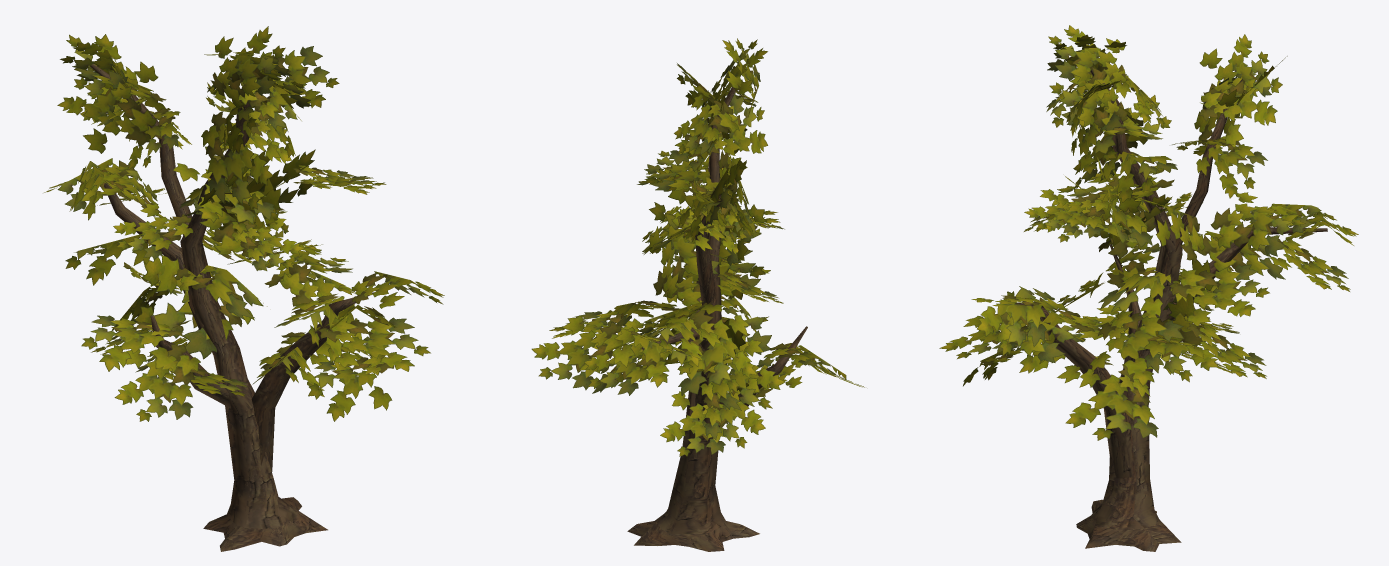
The model's file is 2_Plant_Shu_06.FBX.
3 renders of one model, left to right at view 1: azimuth 30°, elevation 25°; view 2: azimuth 150°, elevation 25°; view 3: azimuth 270°, elevation 25°, orthographic. The views are drawn at different scales.
Parts seen in each view (by area): view 1: 2_Plant_Shu_06; view 2: 2_Plant_Shu_06; view 3: 2_Plant_Shu_06.
Part boxes in pixels (left/top/right/bottom): 2_Plant_Shu_06: left=44, top=26, right=444, bottom=551; 2_Plant_Shu_06: left=531, top=38, right=864, bottom=551; 2_Plant_Shu_06: left=939, top=25, right=1358, bottom=551.
Size of the model in its own units: 579 by 895 by 735.
